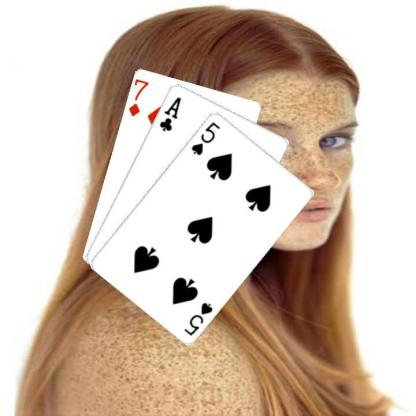5S: (188, 119, 222, 157), (181, 299, 214, 337)
7D: (126, 76, 150, 118)
AC: (156, 94, 182, 132)
